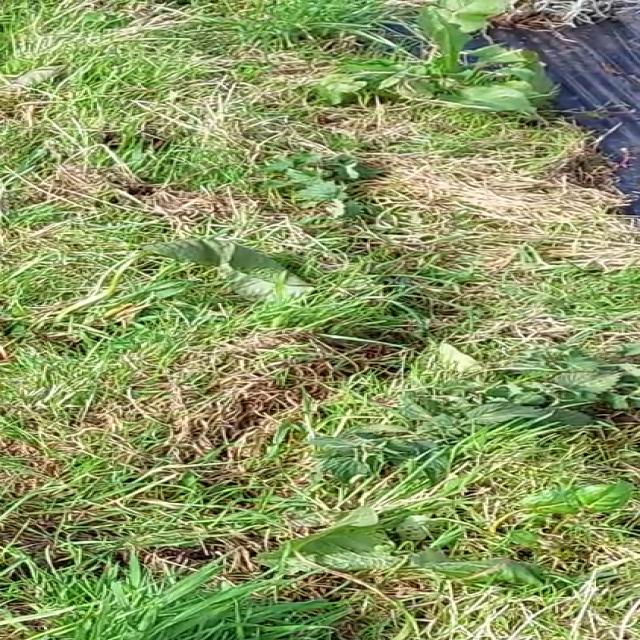organic waste: (289, 0, 622, 131), (256, 476, 481, 615), (105, 206, 314, 313)
